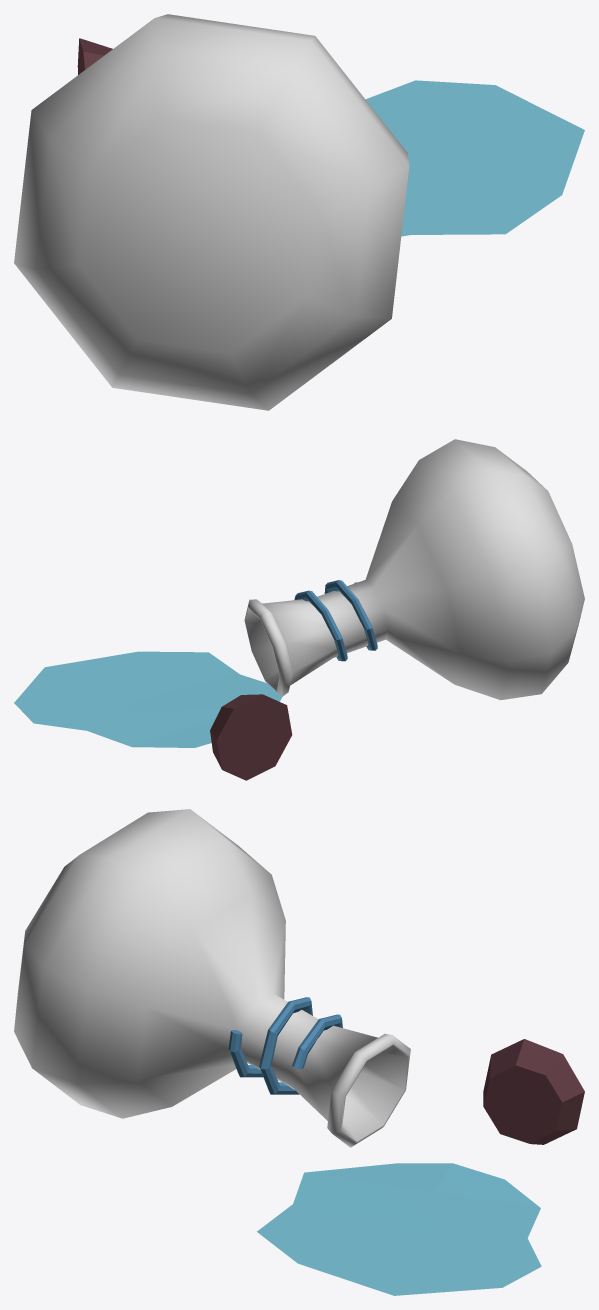
The model's file is poção-caidav3.fbx.
3 views of the same model, one above another, from view 1: azimuth 30°, elevation 25°; view 2: azimuth 150°, elevation 25°; view 3: azimuth 270°, elevation 25° (orthographic). The views are drawn at different scales.
Parts seen in each view (by area): view 1: PoçãoRedonda.001; view 2: PoçãoRedonda.001; view 3: PoçãoRedonda.001.
Boxes of the visible parts, bbox=[...] form: PoçãoRedonda.001: bbox=[14, 14, 584, 410]; PoçãoRedonda.001: bbox=[14, 439, 584, 780]; PoçãoRedonda.001: bbox=[14, 809, 584, 1295].
Size of the model in its own units: 0.2275 by 0.1121 by 0.2076.
